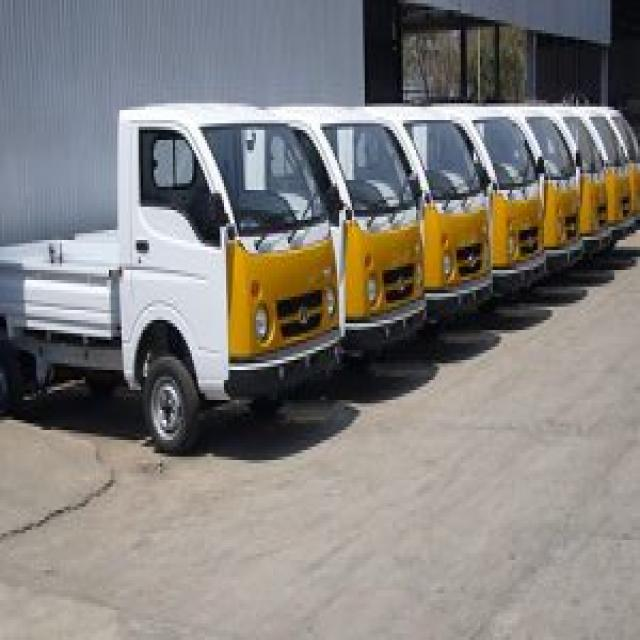truck: (0, 104, 340, 450), (272, 107, 425, 355), (342, 107, 492, 319), (416, 107, 546, 294)
